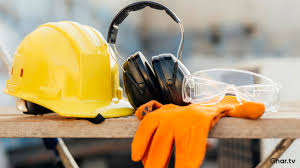arm: (129, 107, 160, 166), (213, 92, 274, 119)
helmet: (5, 23, 83, 108), (118, 2, 185, 55)
human: (125, 17, 238, 166), (0, 15, 122, 123)
noglove: (214, 92, 239, 116)
novest: (275, 135, 299, 166)
vest: (133, 100, 216, 167)
